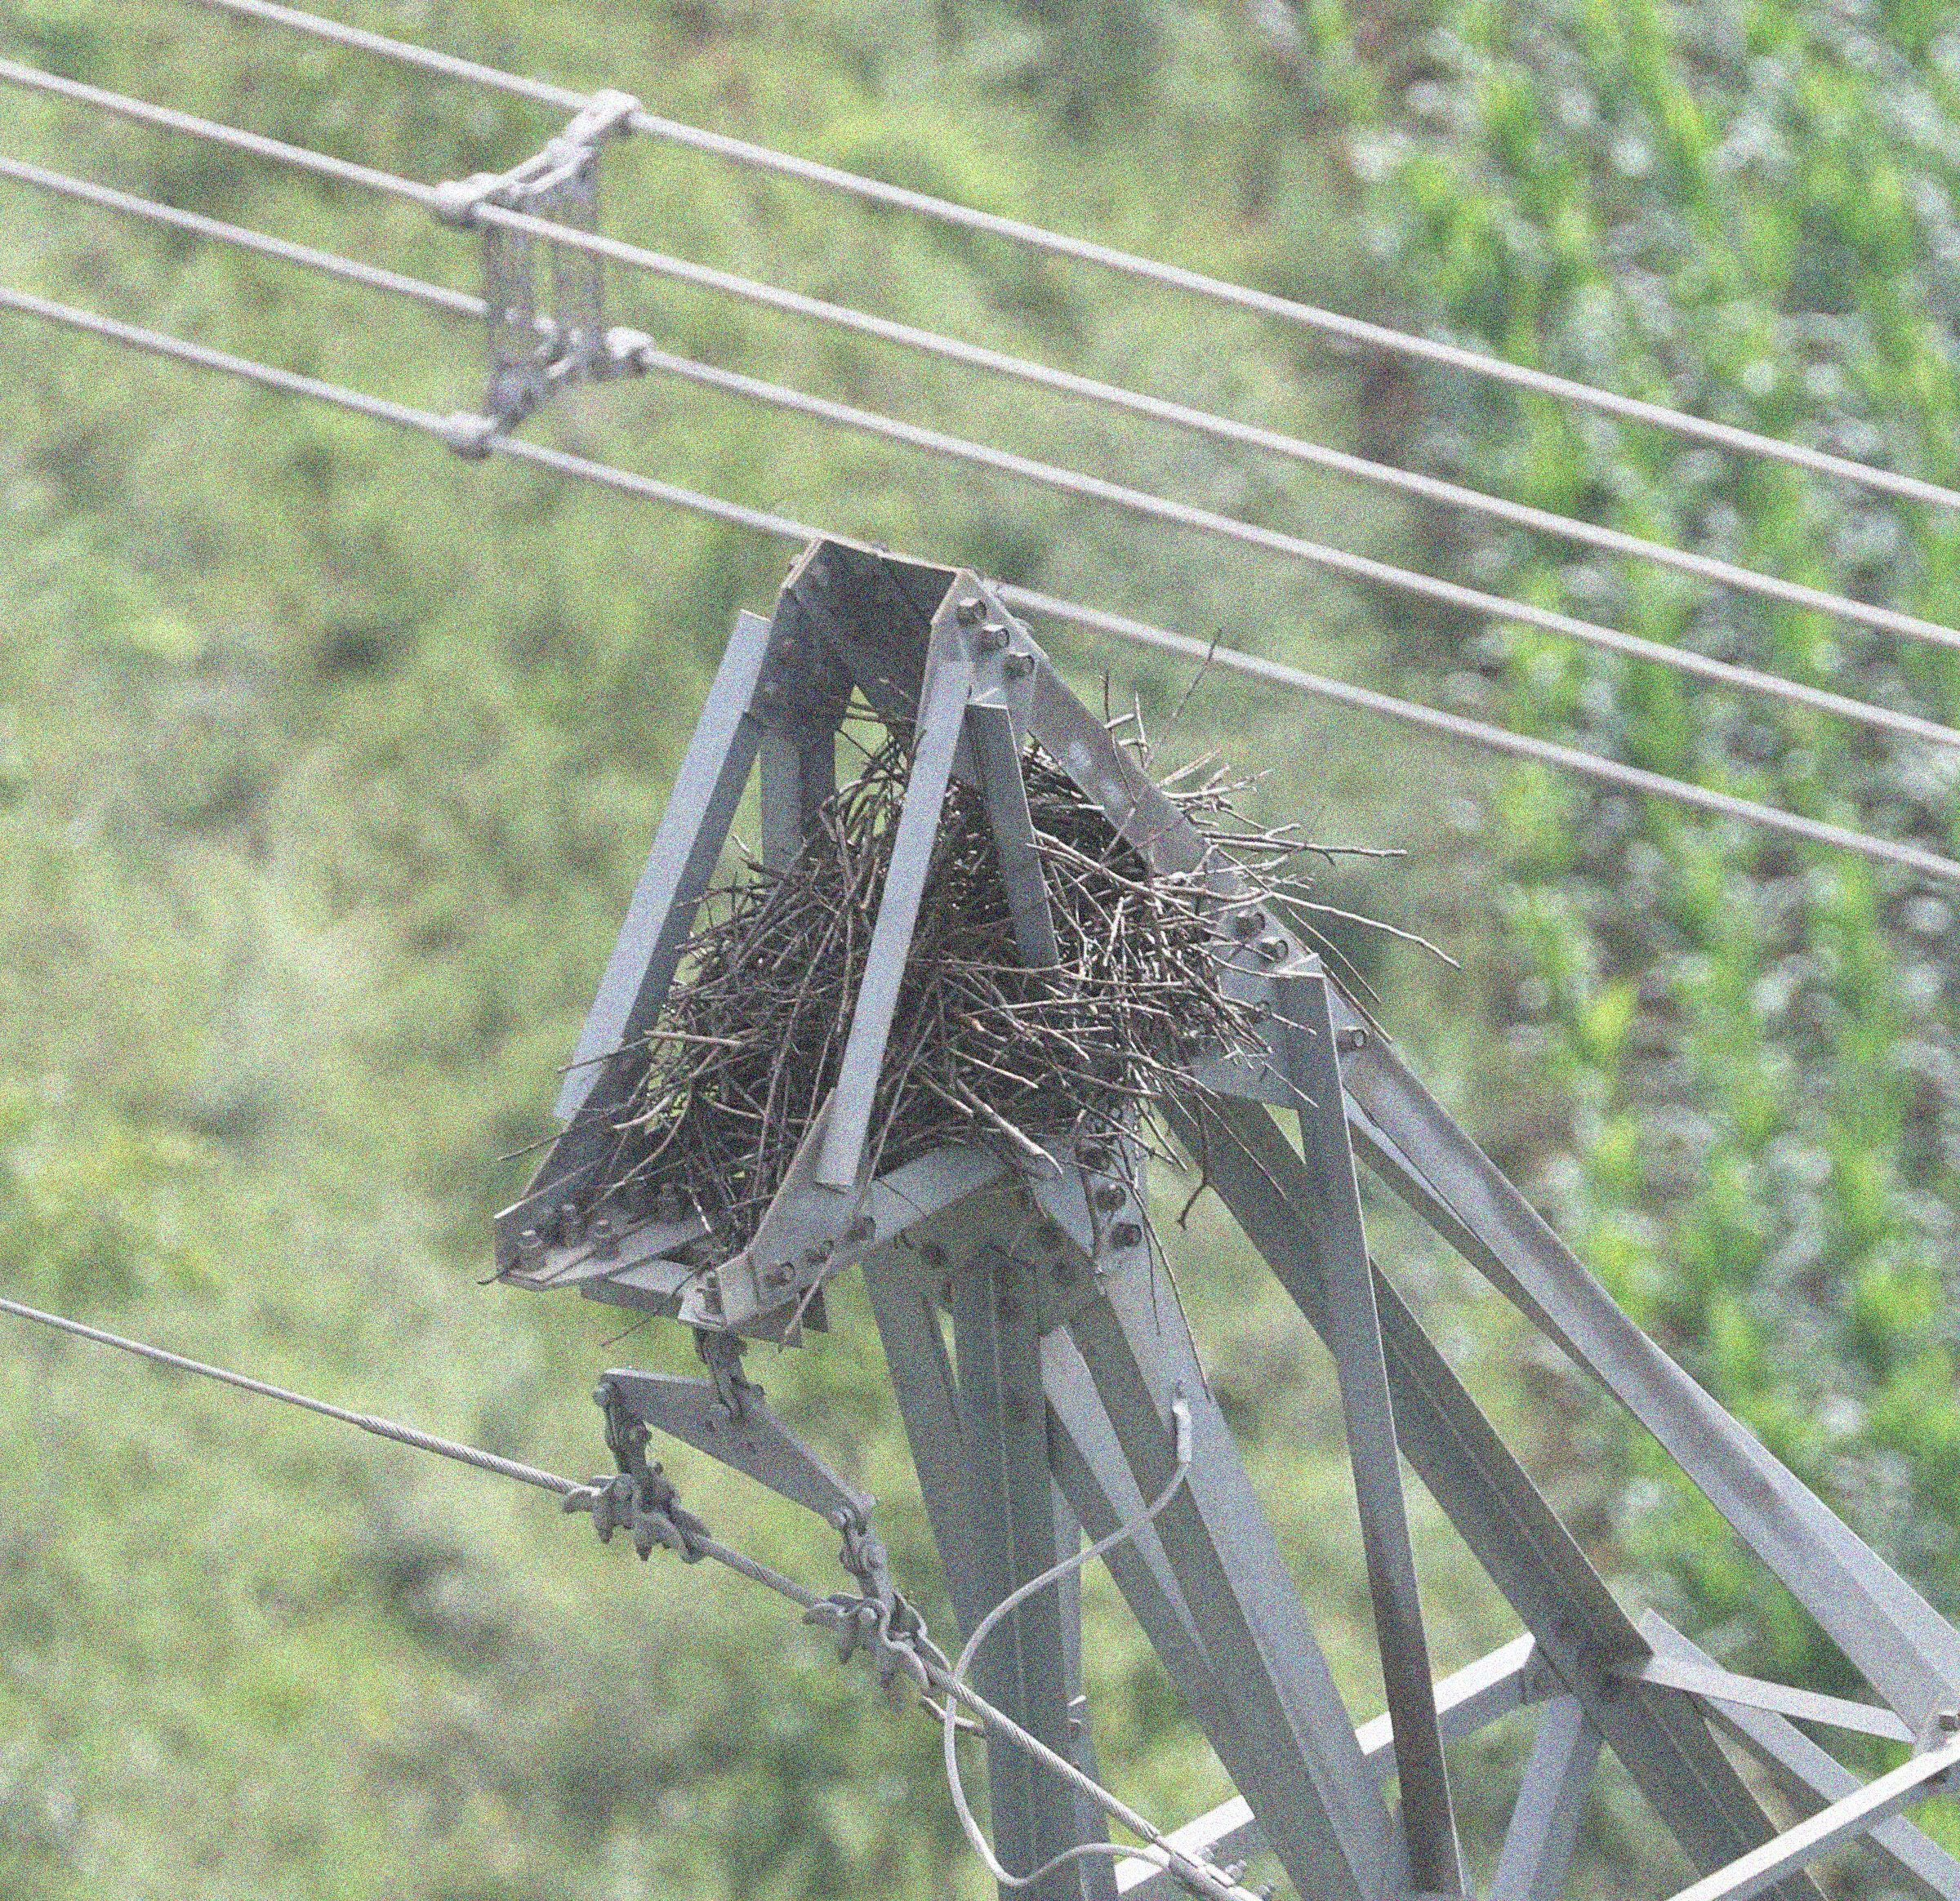niaowo: (597, 656, 1277, 1241)
